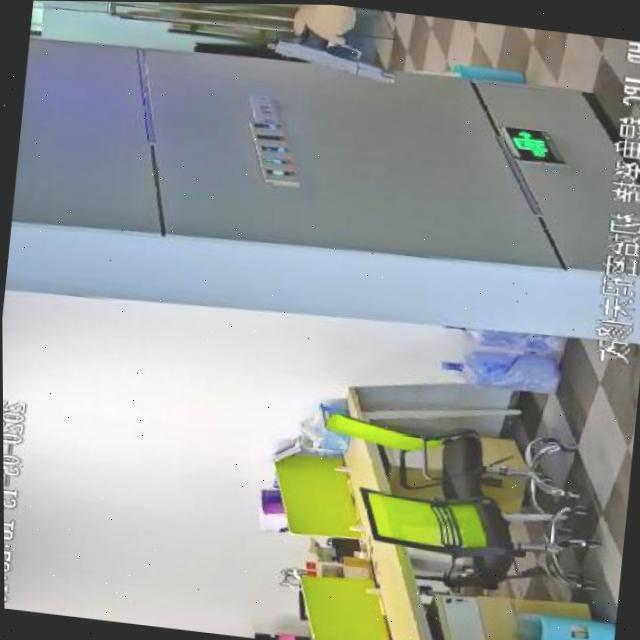gun: (215, 10, 434, 104)
